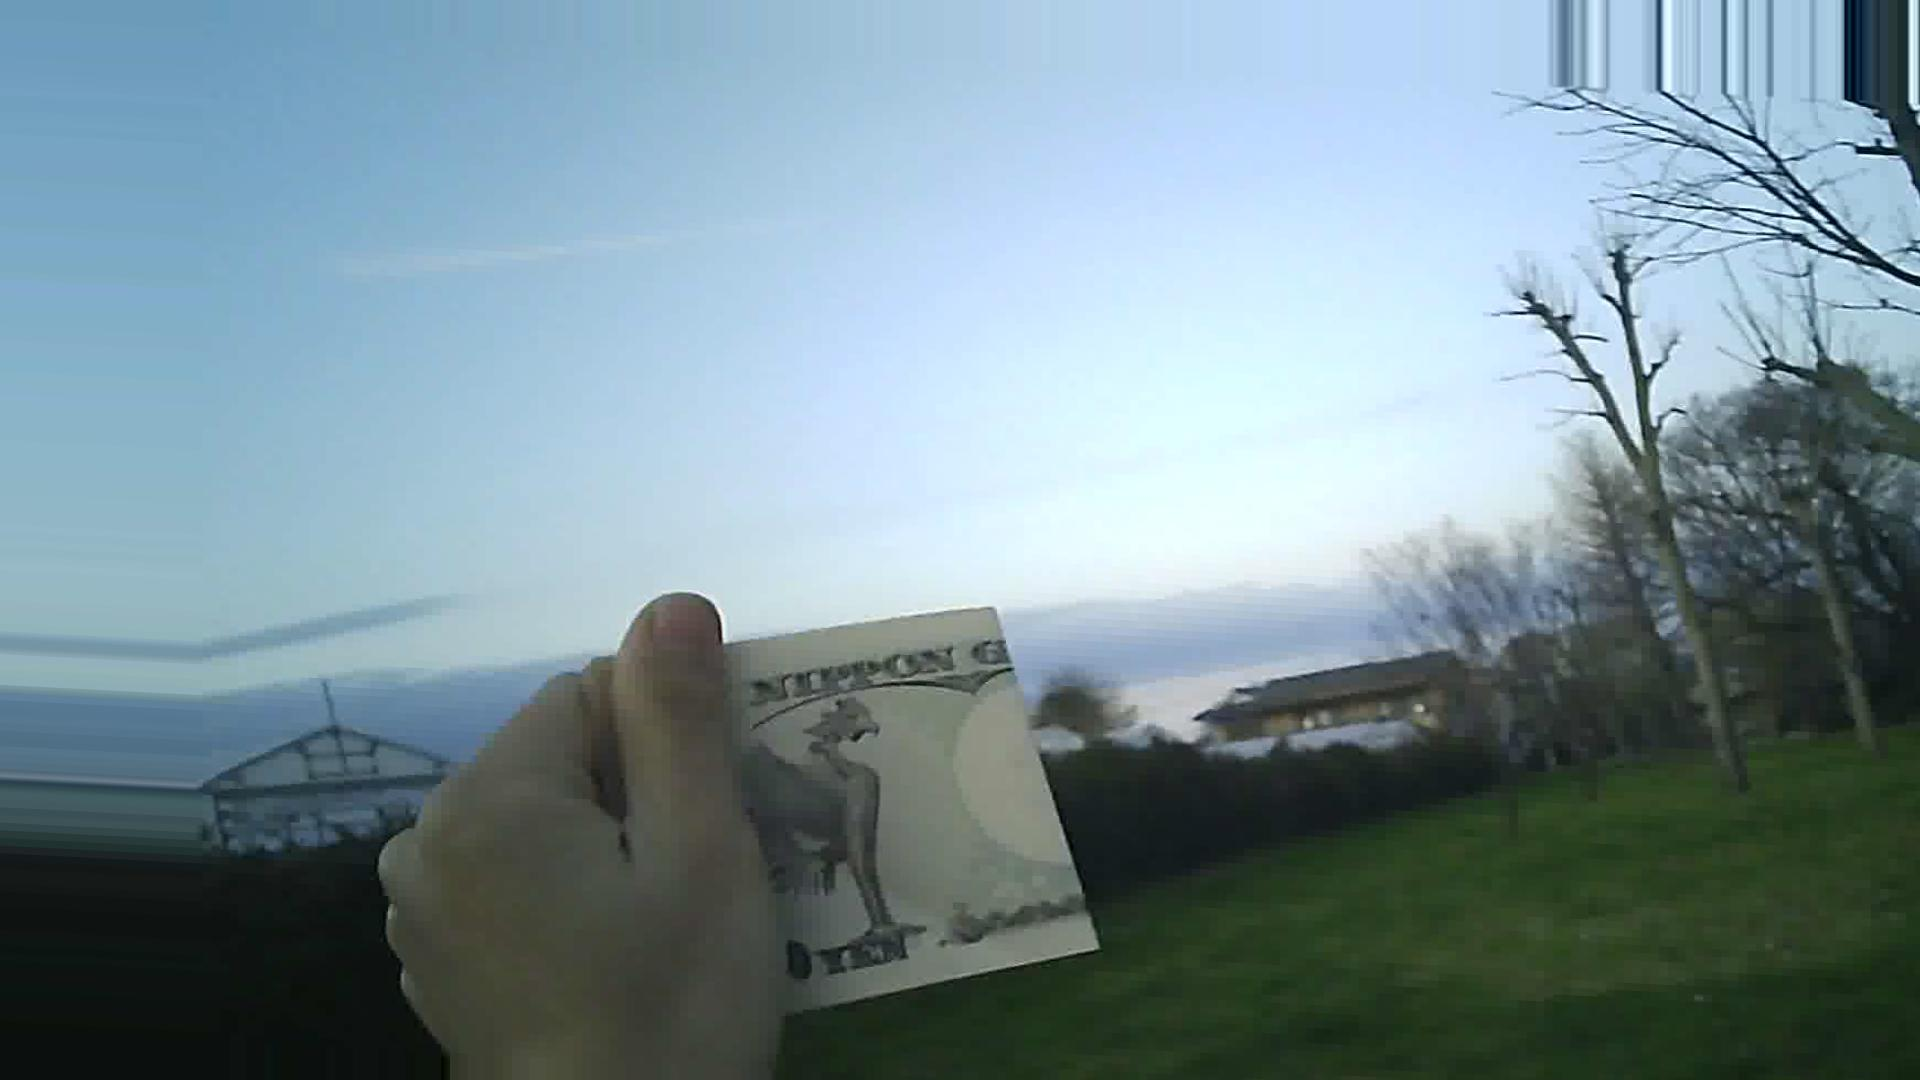10,000 Yen: (634, 593, 1139, 1031)
